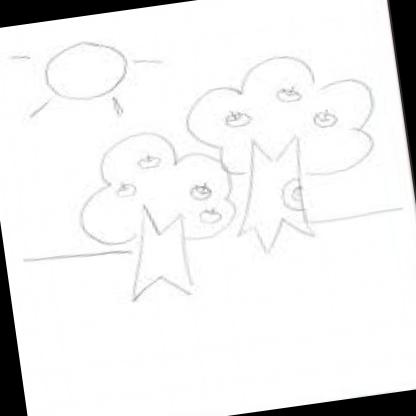apple: (223, 107, 253, 128), (312, 106, 338, 130), (274, 84, 302, 104), (188, 180, 212, 202), (137, 153, 163, 171), (115, 180, 136, 198)
branch_sharp: (245, 128, 304, 167), (132, 198, 188, 238)
crown_cloud: (175, 42, 382, 192), (69, 122, 238, 250)
knot: (278, 178, 304, 210)
root_upside: (82, 233, 202, 314), (235, 207, 319, 258)
trunk_straight: (242, 167, 307, 214), (127, 232, 192, 278)
